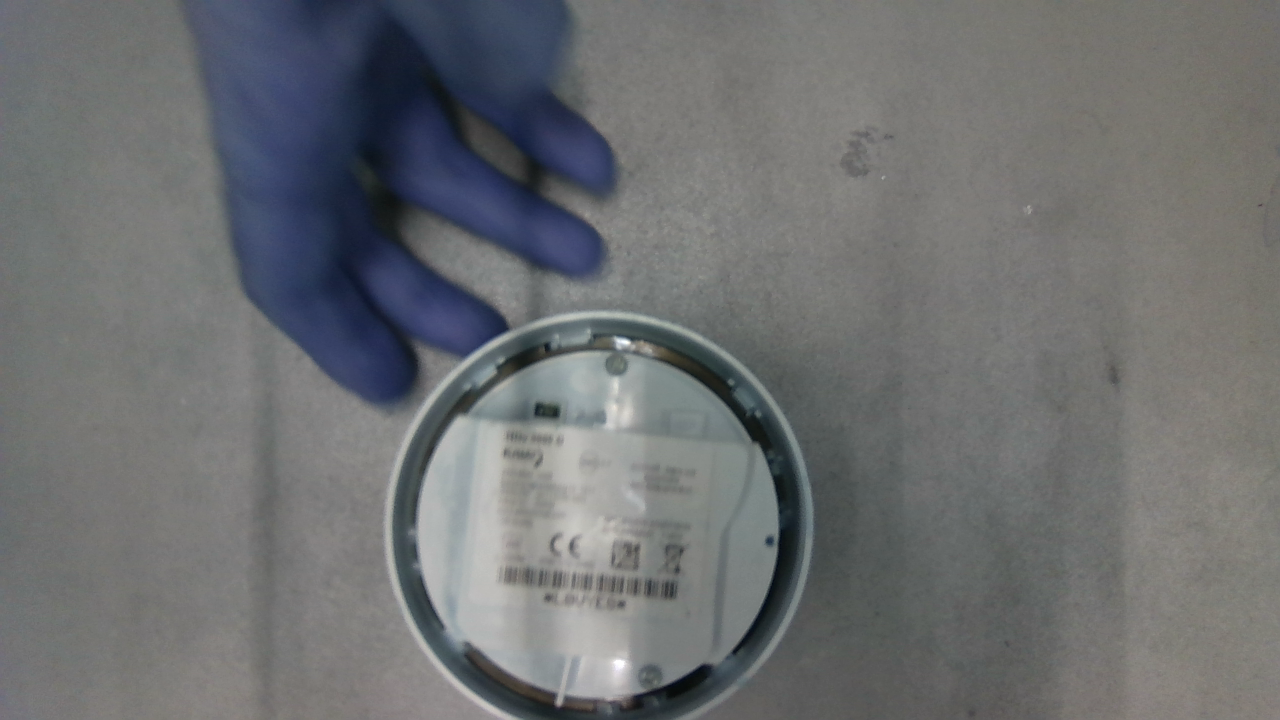HexScrew: (638, 667, 661, 687), (606, 356, 628, 376)
